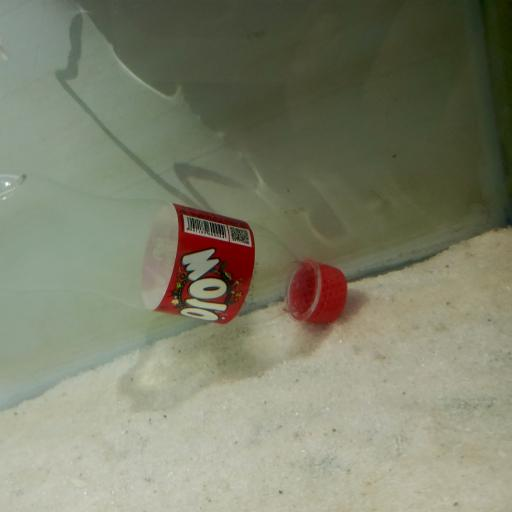bottle_cap: (289, 255, 354, 326)
plastic_bottle: (2, 168, 360, 334)
